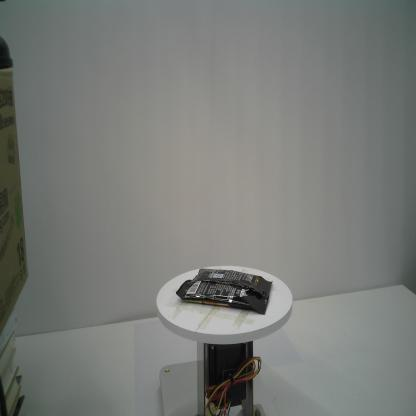Instant Drink: (175, 268, 273, 316)
